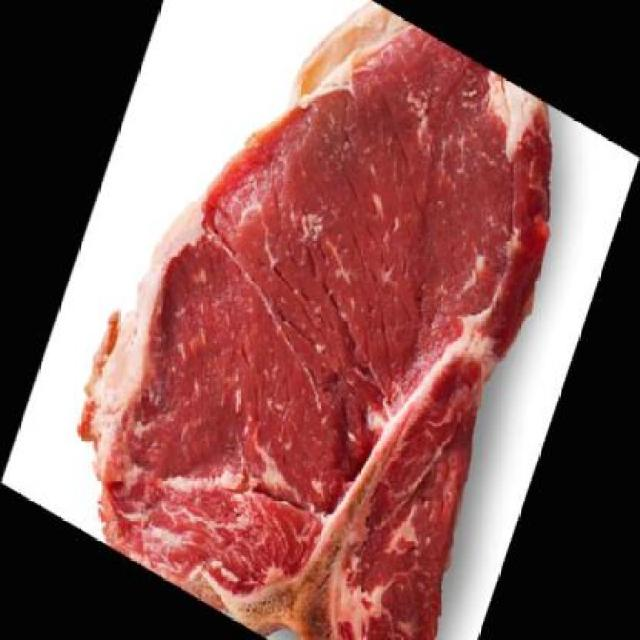beef: (38, 0, 609, 638)
